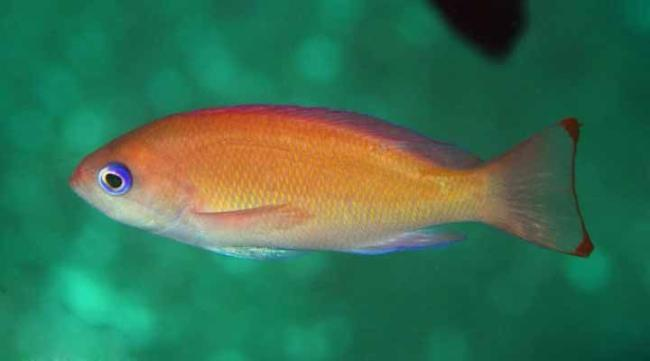fish: (68, 103, 595, 259)
